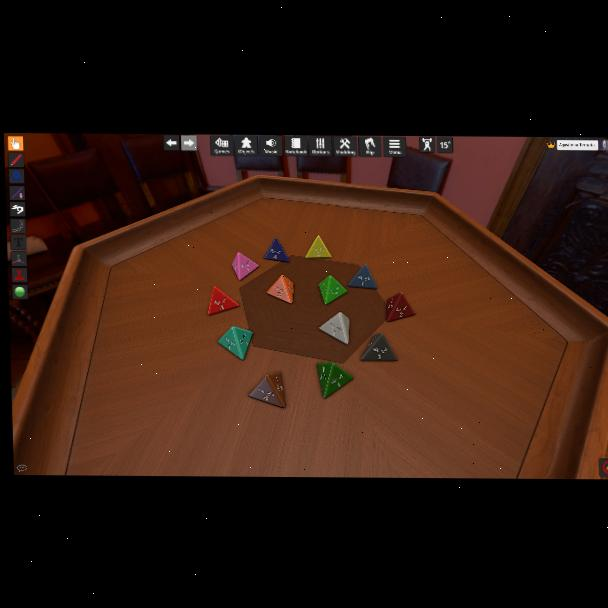d4: (247, 372, 286, 408), (316, 361, 352, 398), (218, 327, 253, 361), (360, 332, 397, 361), (319, 313, 351, 346), (318, 275, 347, 306), (207, 287, 238, 316), (266, 275, 295, 305), (387, 292, 415, 322), (231, 253, 258, 282), (346, 264, 376, 290), (263, 238, 290, 264), (306, 236, 331, 259)
